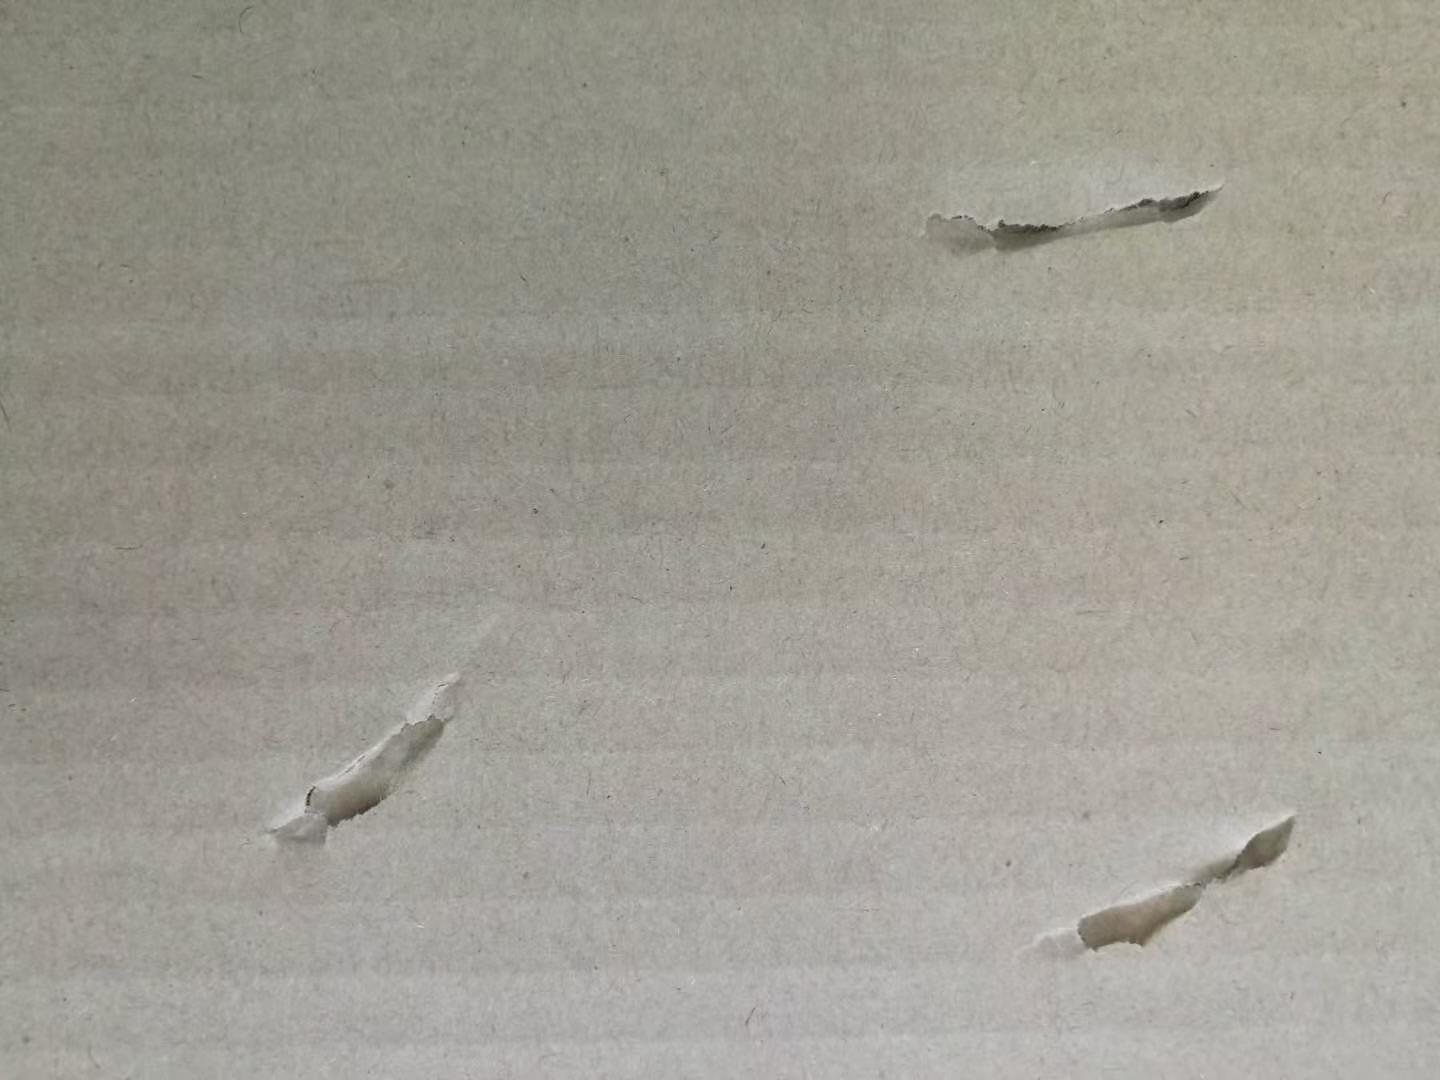defect: (221, 593, 531, 869), (991, 781, 1321, 984), (887, 140, 1267, 293)
